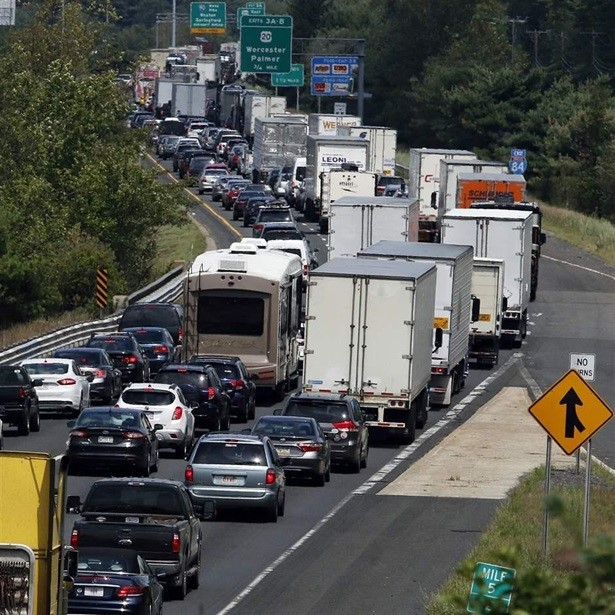HeavyVehicle: (295, 259, 441, 398), (188, 243, 298, 382), (256, 118, 304, 182), (171, 82, 209, 121)
LightVehicle: (187, 431, 288, 522), (66, 407, 158, 476)
